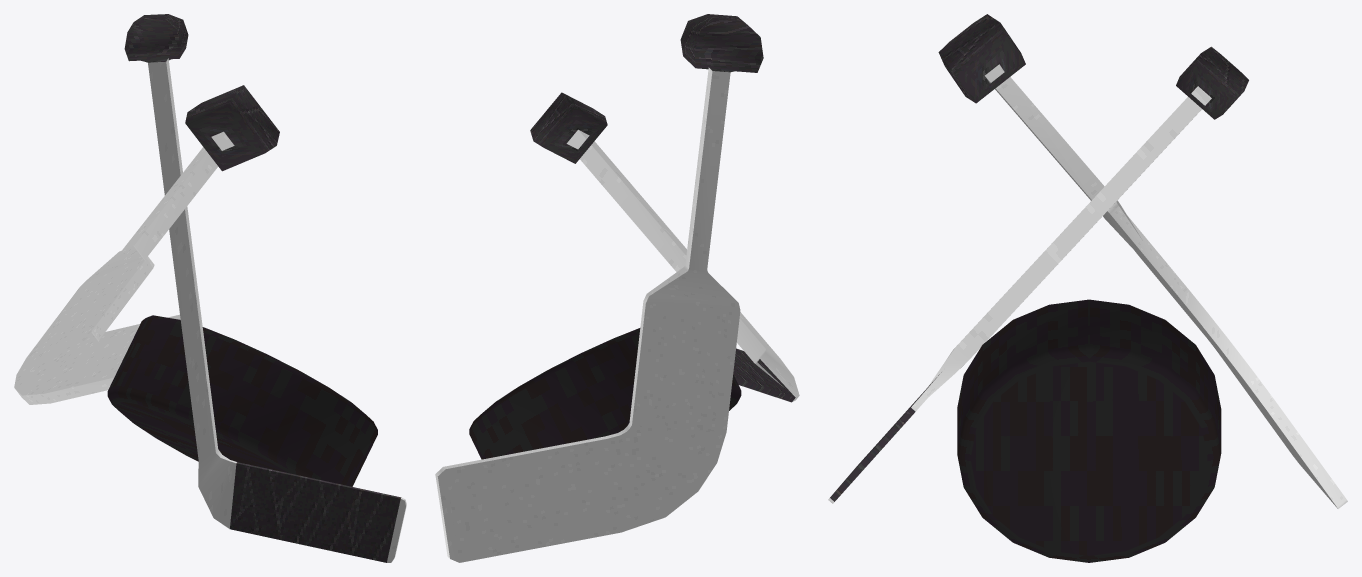
The model's file is ps2_save-icons_nhl08.glb.
The picture shows the model from 3 angles, left to right: view 1: azimuth 30°, elevation 25°; view 2: azimuth 150°, elevation 25°; view 3: azimuth 270°, elevation 25°; orthographic projection.
Parts seen in each view (by area): view 1: nhl.ico; view 2: nhl.ico; view 3: nhl.ico.
Part boxes in pixels (x1,y1,x2,y2): nhl.ico: (14, 14, 406, 562); nhl.ico: (435, 14, 799, 562); nhl.ico: (828, 14, 1347, 562).
Size of the model in its own units: 2.3 by 3.59 by 3.63.
1 material, 1 textured.
